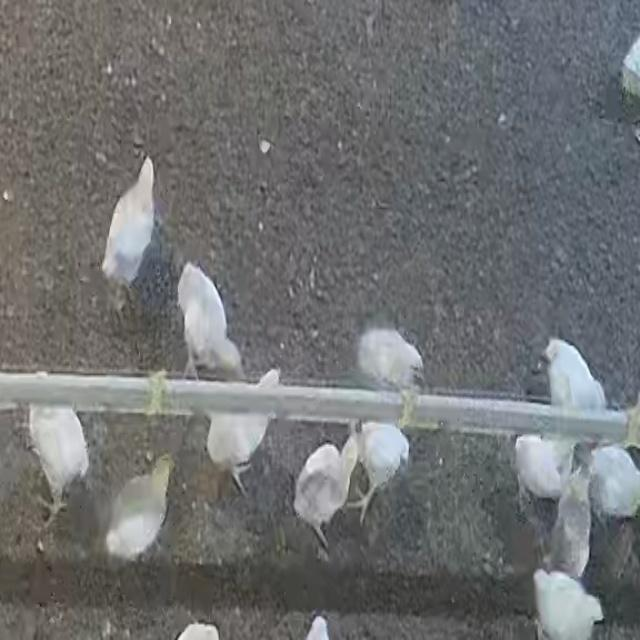chicken: (203, 368, 279, 498), (25, 378, 91, 527), (96, 156, 159, 294), (172, 264, 246, 381), (103, 453, 174, 563), (538, 337, 608, 444), (294, 440, 354, 556), (344, 420, 409, 524), (547, 453, 595, 579), (356, 327, 426, 405), (531, 568, 604, 640), (513, 434, 569, 506), (587, 445, 639, 521)
